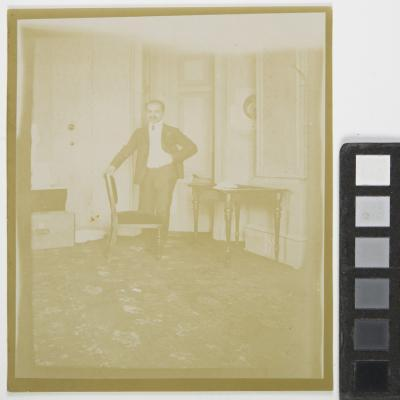photos_negatives: (2, 6, 336, 392)
